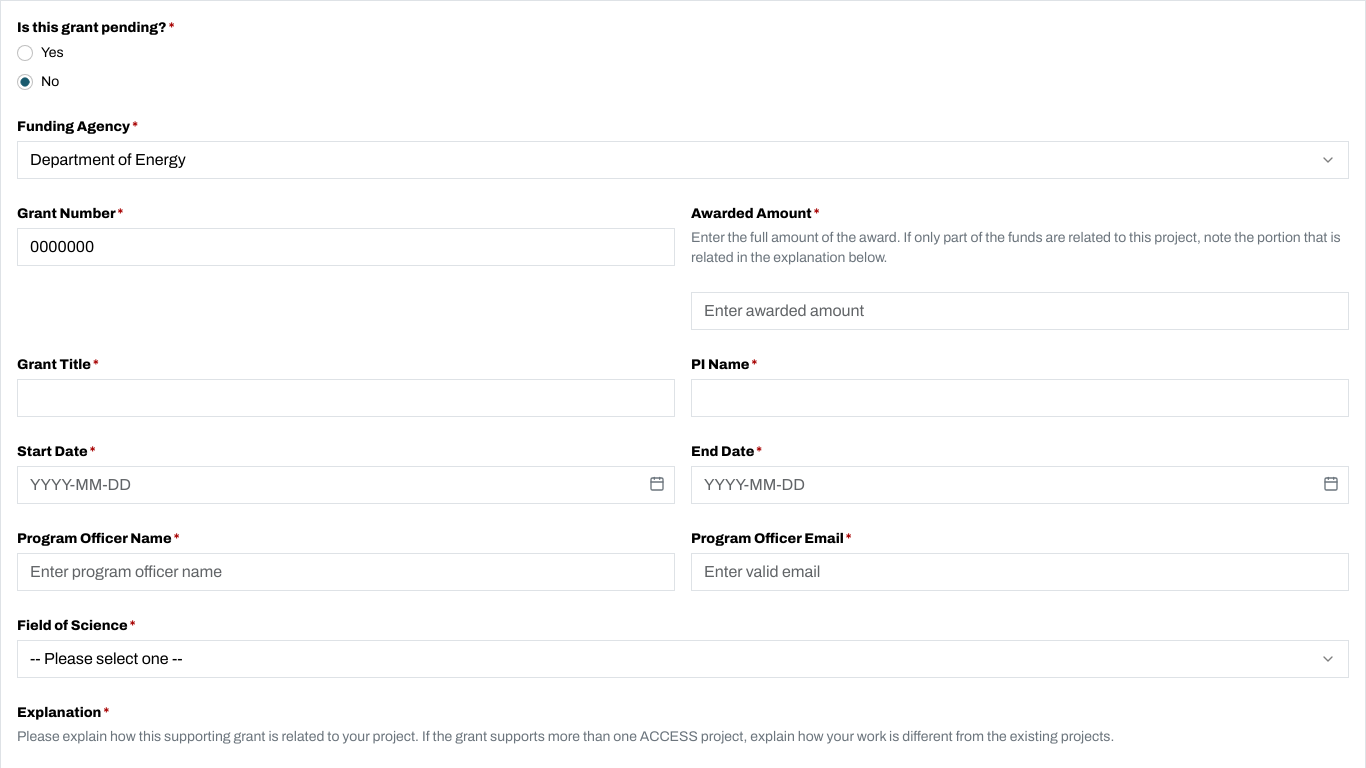
Test: applyNsfLock › shows the not-found message when NSF is picked as the agency for a number it has no record of
The image size is (1366, 768).
What coordinates should you click on to do the following:
click the dropdown labelled "Department of Energy"
I would click on:
 (108, 160)
Its box is left=17, top=141, right=1349, bottom=179.
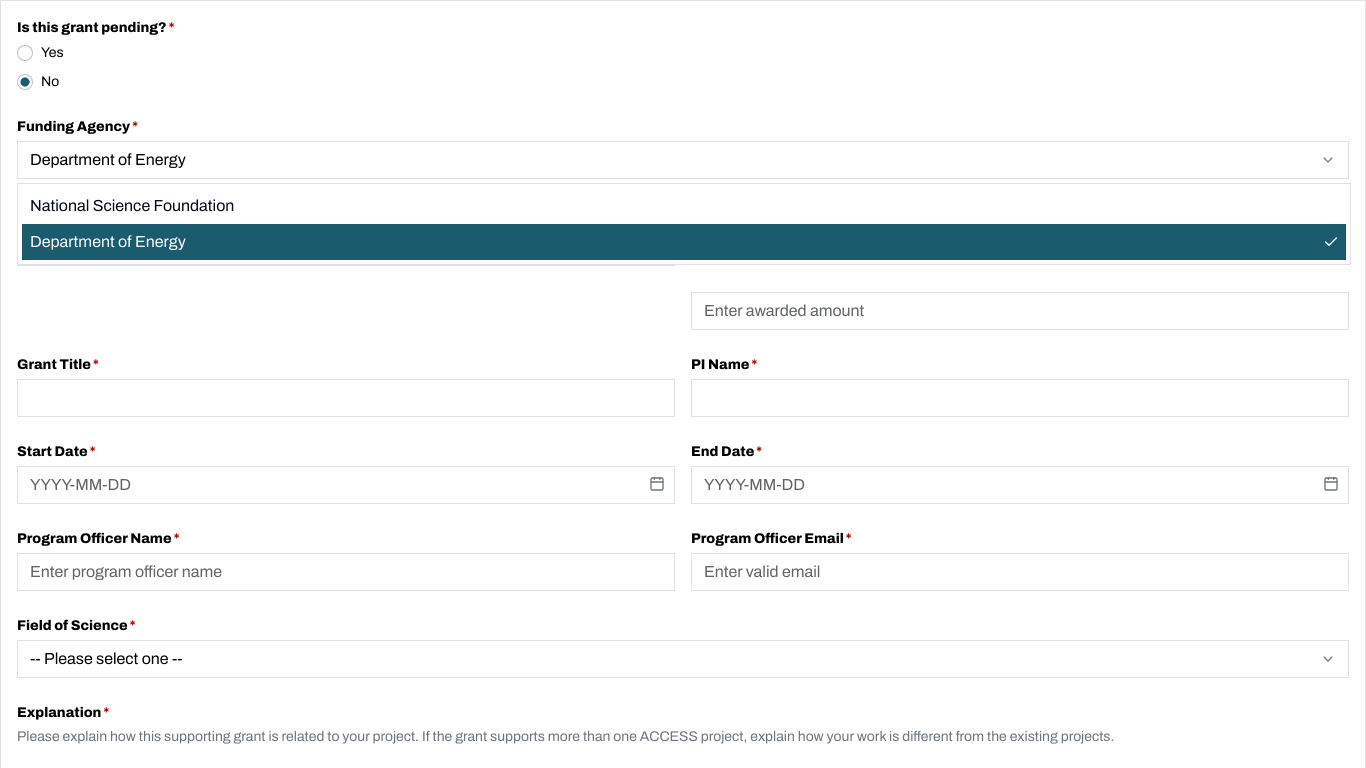
What coordinates should you click on to do the following:
click the option "National Science Foundation"
I would click on:
 (132, 206)
Its box is left=30, top=197, right=234, bottom=214.
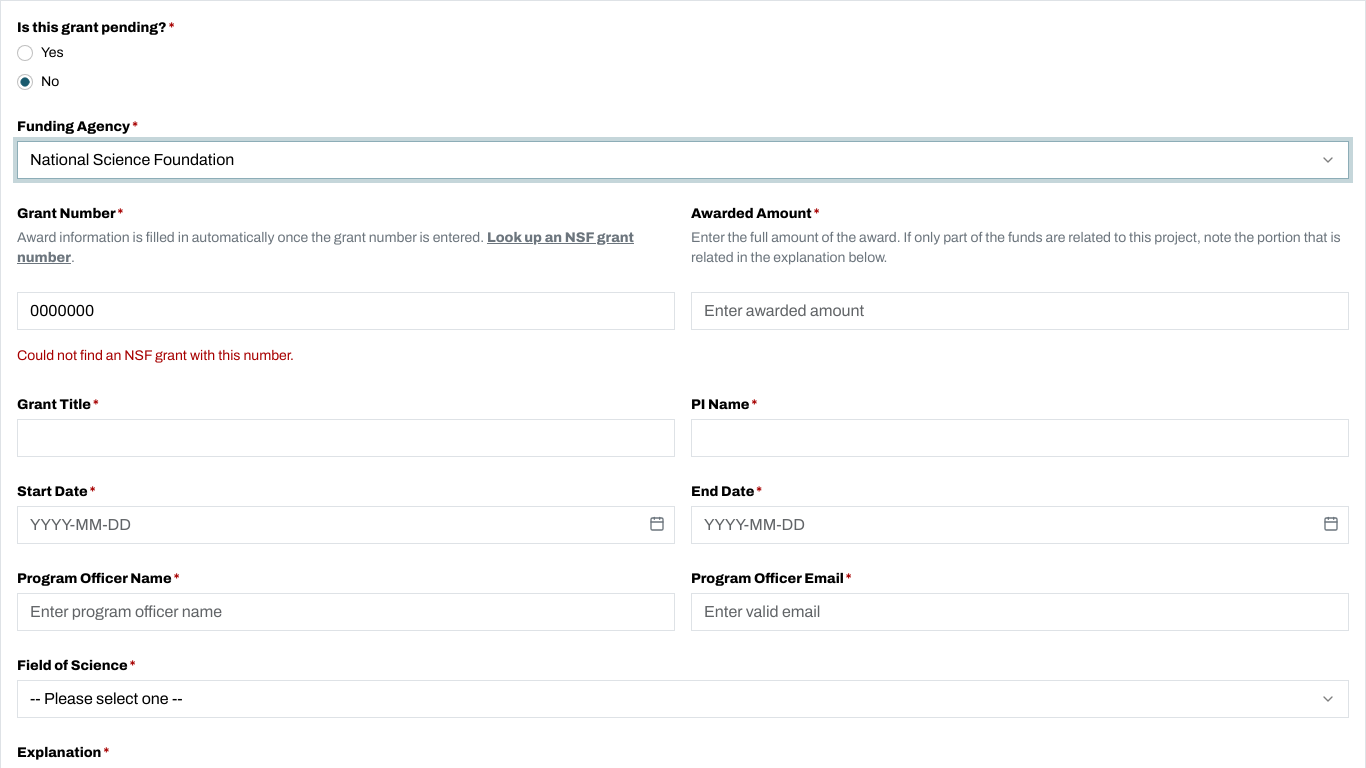
Expected: the text "Could not find an NSF grant with this number." is shown, left=17, top=348, right=294, bottom=363
